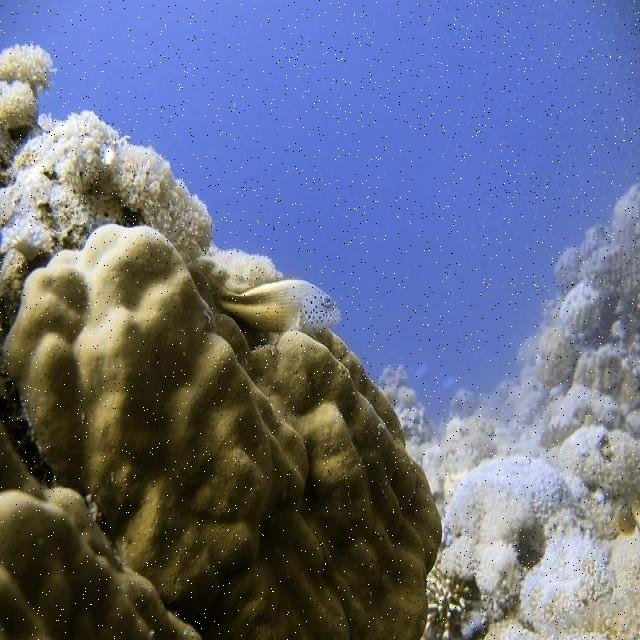fish: (200, 267, 342, 333)
reefs: (0, 224, 441, 638), (1, 43, 287, 328), (440, 456, 589, 624)
